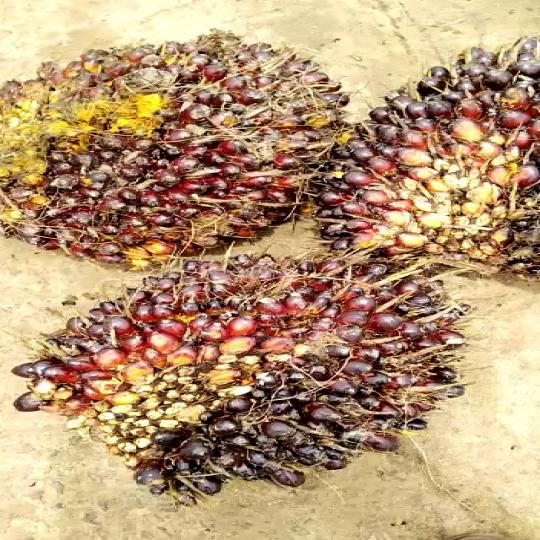kurang masak: (39, 241, 446, 509), (0, 16, 334, 262), (323, 30, 540, 309)
